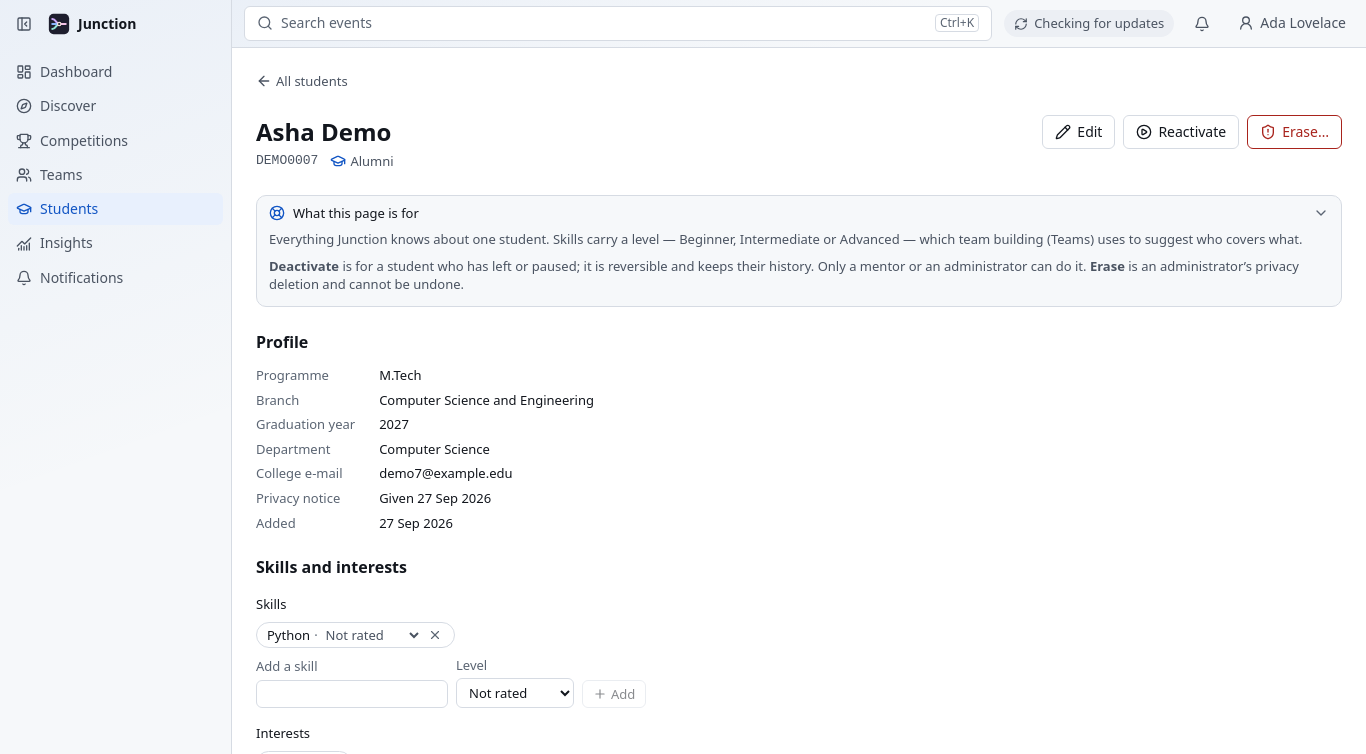
Test case: forced states › a failed tag removal puts the skill back and says why
Expected: the navigation bar named "Main" is shown, [0,0,231,302]
Expected: the heading "Asha Demo" is shown, [256,115,394,148]
Click the button named "Remove Python".
click(435, 635)  # box [426,626,444,644]
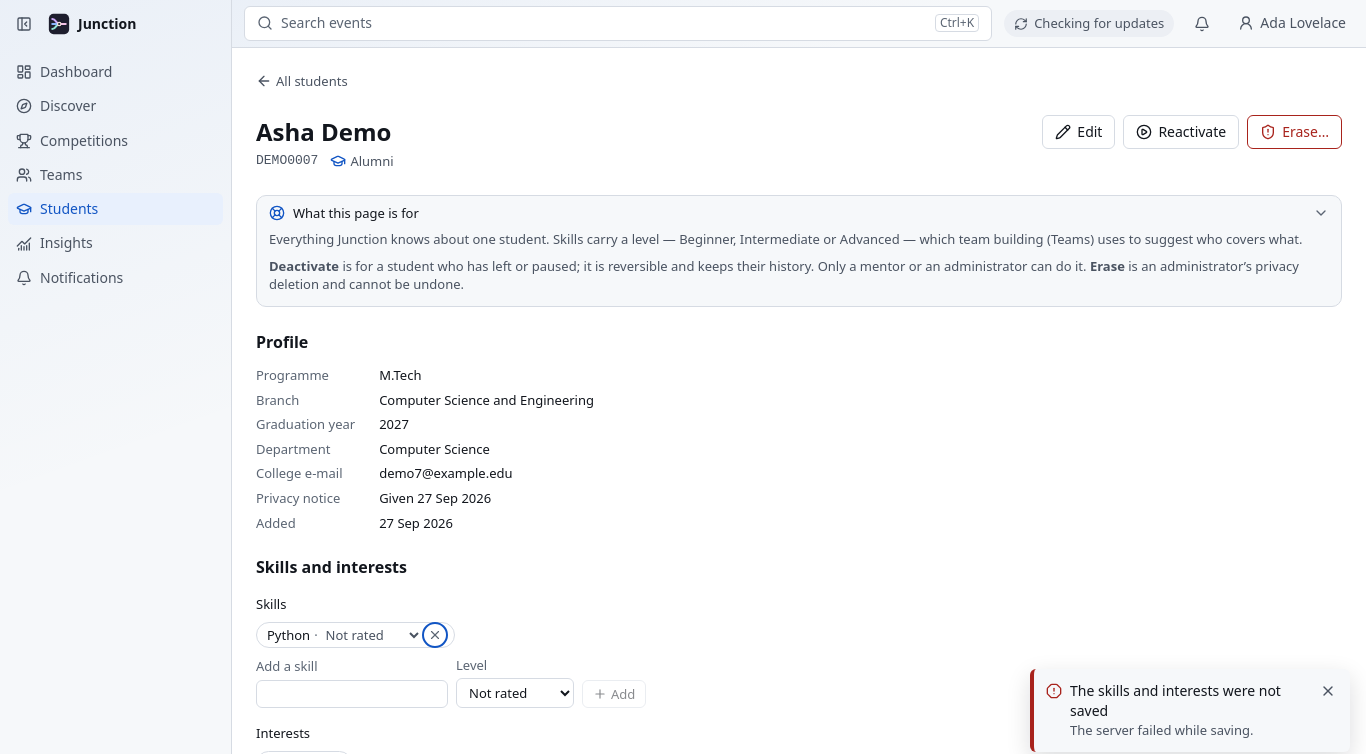
Expected: the dropdown named "Level of Python" is shown, [322,625,422,645]
Expected: the text "The skills and interests were not saved" is shown, [1070,681,1310,721]
Expected: the text "The server failed while saving." is shown, [1070,721,1253,739]
